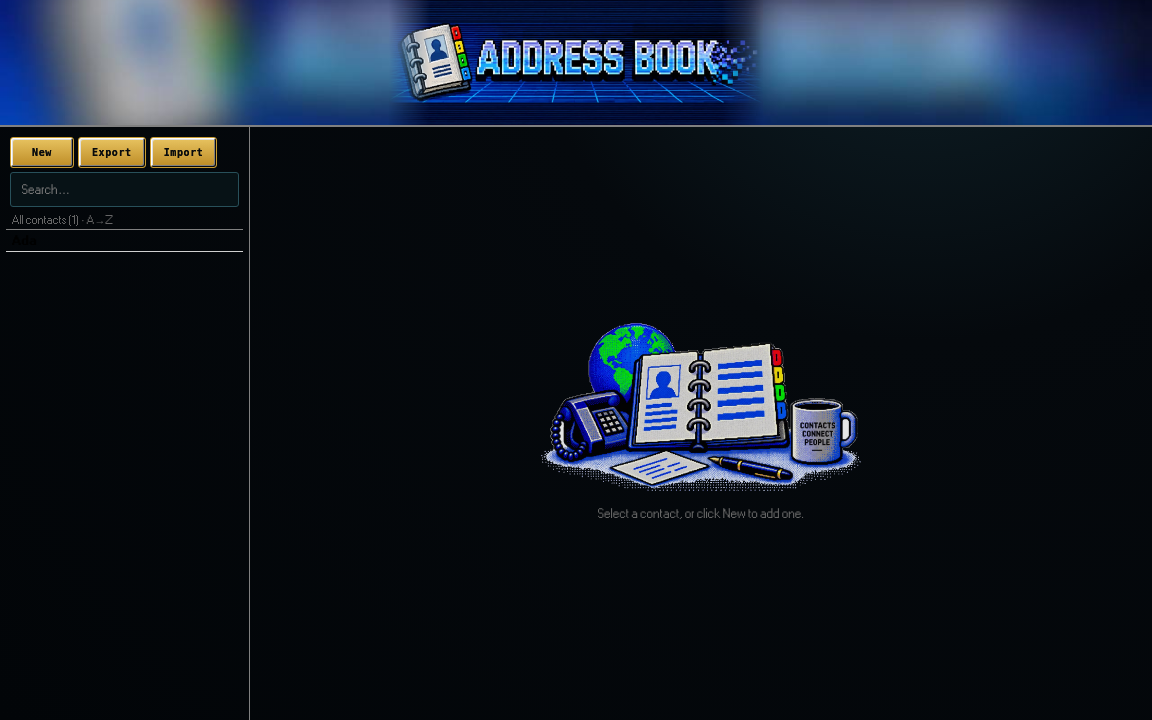
the repeatable fields are locked until Edit is pressed › clicking Edit unlocks that section only, and the +/- controls with it
Click the list item "Ada". click: [124, 241]
box: [6,230,243,252]
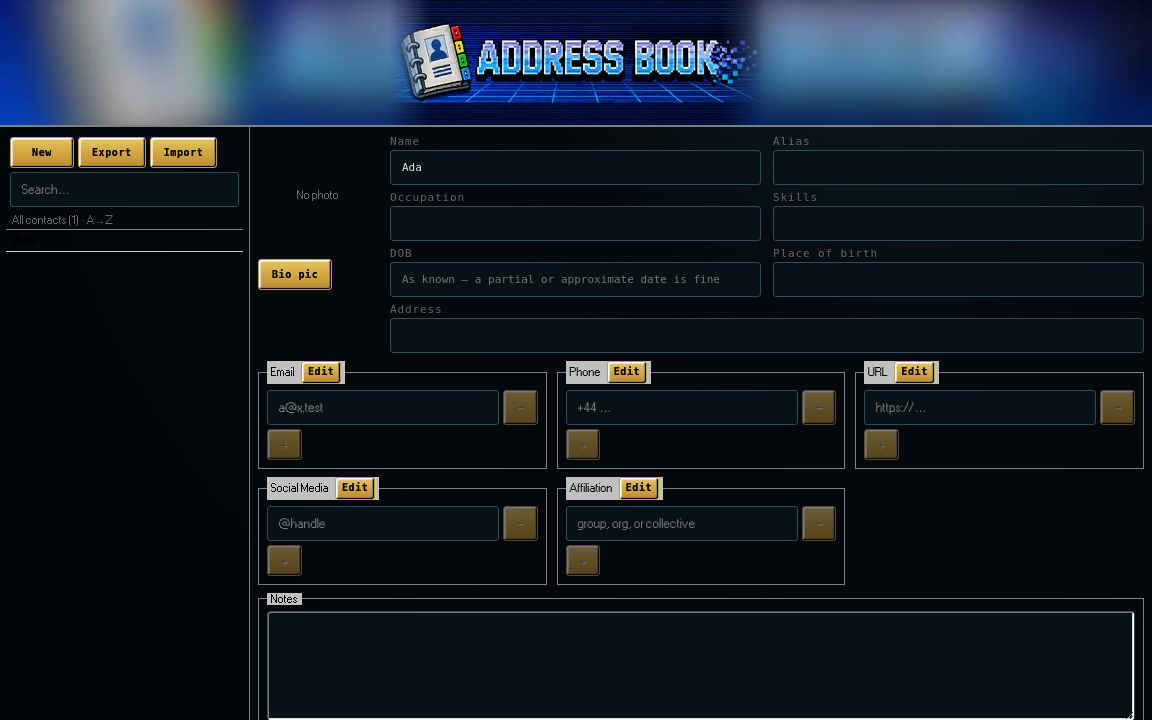
Click the button "Edit" next to "Email". click: [321, 372]
box: [301,361,342,384]
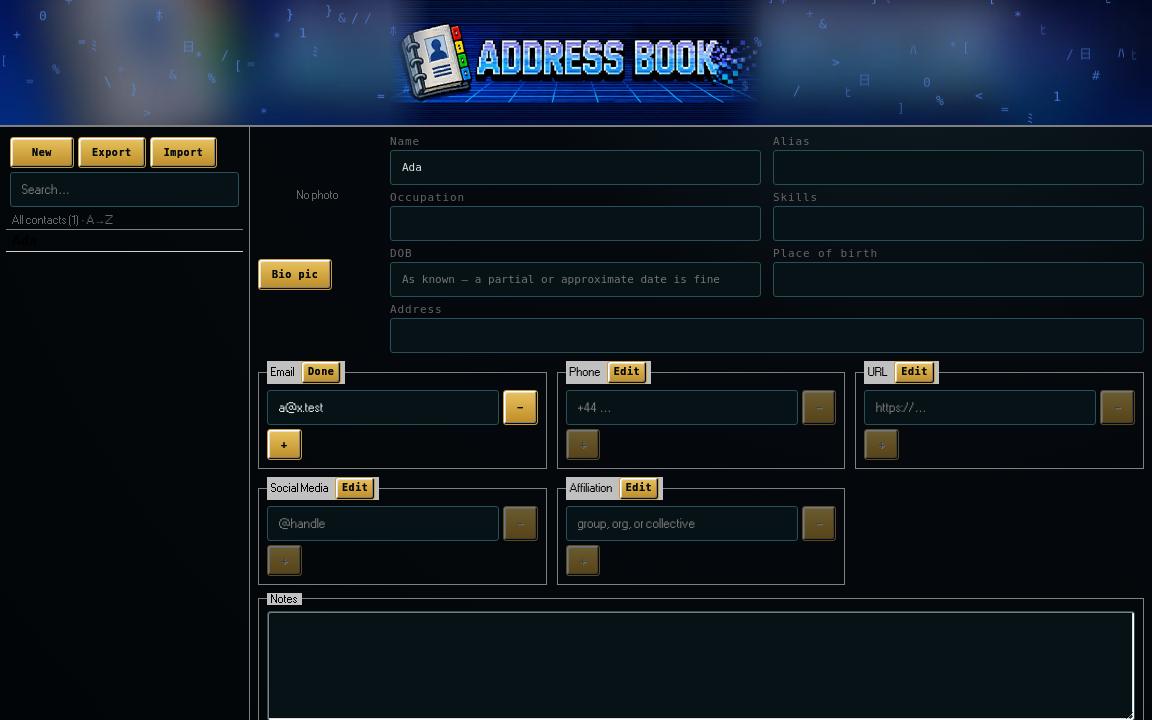
Expected: the button "+" below "Email" is enabled, [267,429,302,460]
